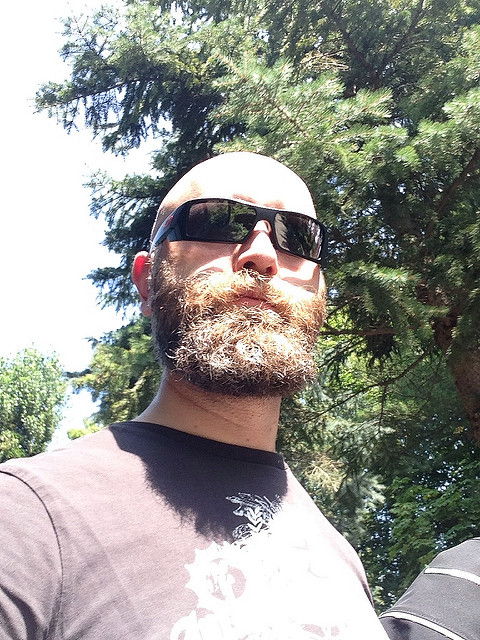sunglasses: (184, 192, 327, 261), (184, 192, 327, 247)
